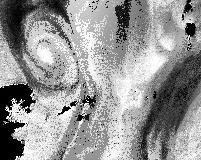CE: (15, 15, 83, 97)
